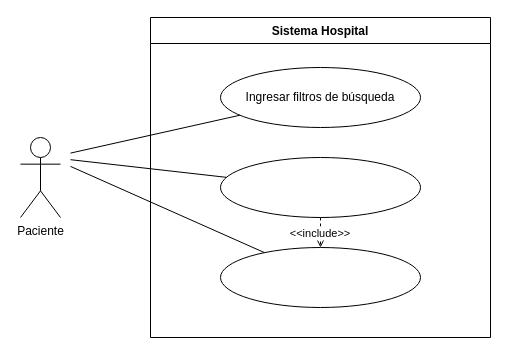
The diagram is 508 pixels wide and 355 high, and some of its shapes have lost their labels. The shapes that lost their labels are listed below. From the top down, each one's centre as x and y in pixels, then its label:
pixel 320 187: Presionar botón Buscar
pixel 320 277: Ver resultados en tabla
